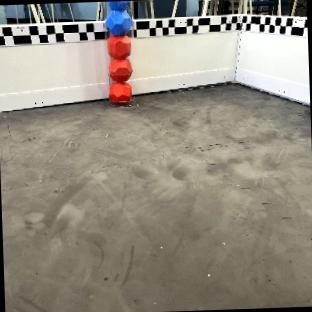Loader: (103, 1, 135, 104)
V5_BLUE: (106, 1, 132, 34)
V5_RED: (109, 77, 133, 102), (107, 34, 131, 58), (110, 57, 133, 81)
